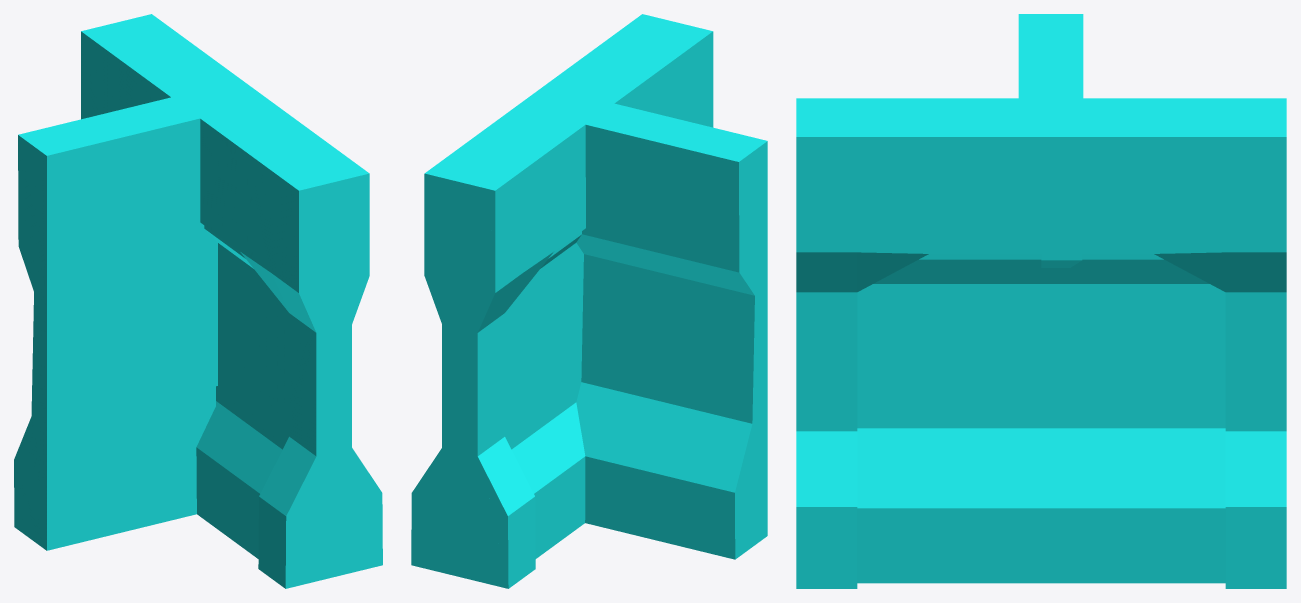
Rendered from Wall_Collision_01a.fbx.
3 views of the same model, side by side, from view 1: azimuth 30°, elevation 25°; view 2: azimuth 150°, elevation 25°; view 3: azimuth 270°, elevation 25° (orthographic). The views are drawn at different scales.
Parts seen in each view (by area): view 1: Wall_01c_Coll, Door_01a_Coll, Wall_01a_Coll, Wall_01d.001, Wall_01b_Coll; view 2: Wall_01c_Coll, Door_01a_Coll, Wall_01a_Coll, Wall_01d.001; view 3: Door_01a_Coll, Wall_01a_Coll, Wall_01b_Coll, Wall_01c_Coll.
Boxes of the visible parts, x1,y1,x2,y2 form: Wall_01c_Coll: (14, 97, 217, 550); Door_01a_Coll: (81, 14, 382, 588); Wall_01a_Coll: (216, 175, 373, 547); Wall_01d.001: (196, 178, 373, 586); Wall_01b_Coll: (216, 243, 289, 449); Wall_01c_Coll: (576, 103, 767, 559); Door_01a_Coll: (411, 14, 713, 588); Wall_01a_Coll: (420, 174, 583, 580); Wall_01d.001: (420, 175, 585, 586); Door_01a_Coll: (796, 98, 1286, 588); Wall_01a_Coll: (857, 254, 1225, 583); Wall_01b_Coll: (857, 254, 1041, 583); Wall_01c_Coll: (1018, 14, 1083, 267).
Size of the model in its own units: 80.5 by 128 by 128.
